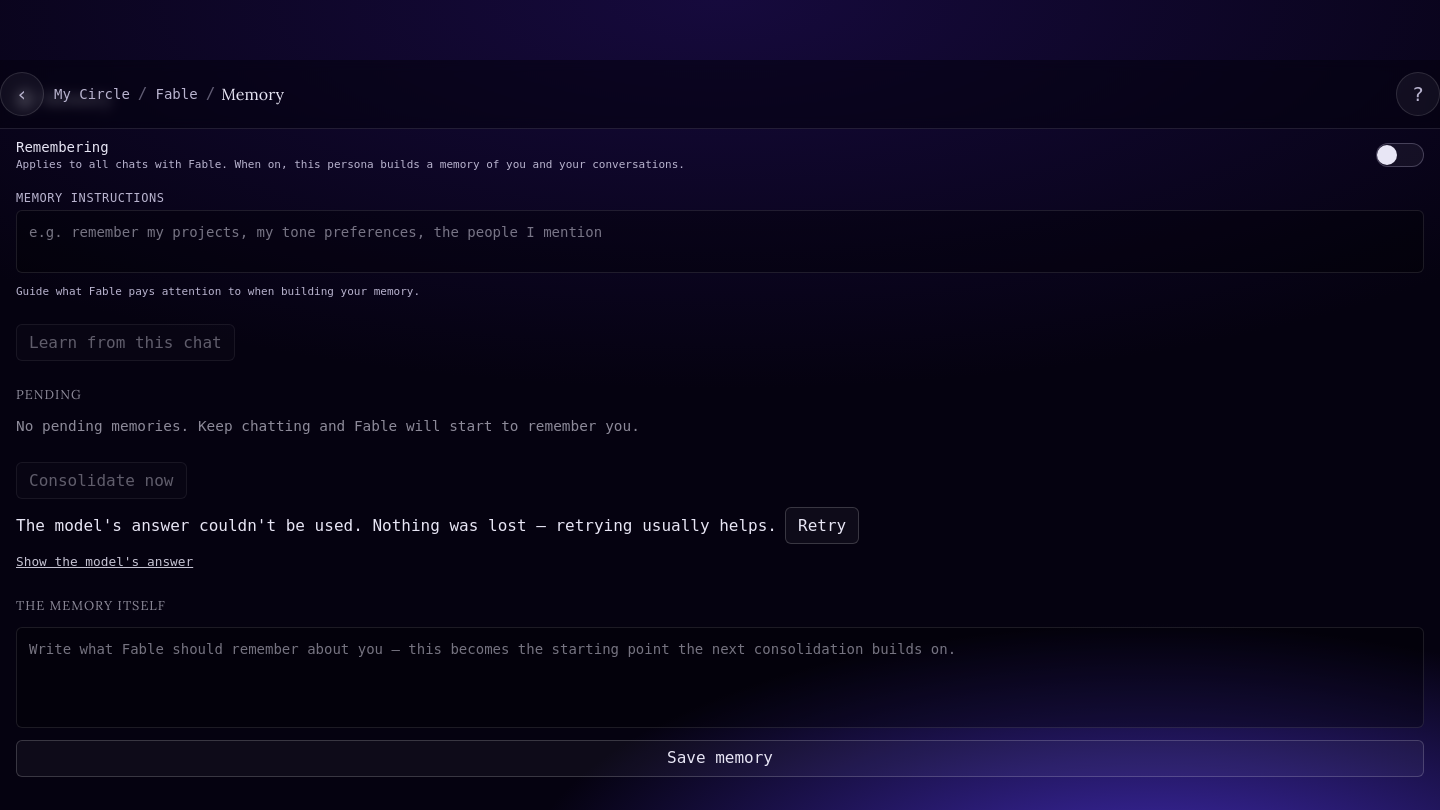
Scenario: PersonaMemory — action error copy › opens the response overlay with reasoning and content split apart
Click the button "Show the model's answer" at (105, 562), box [16,552,193,572]
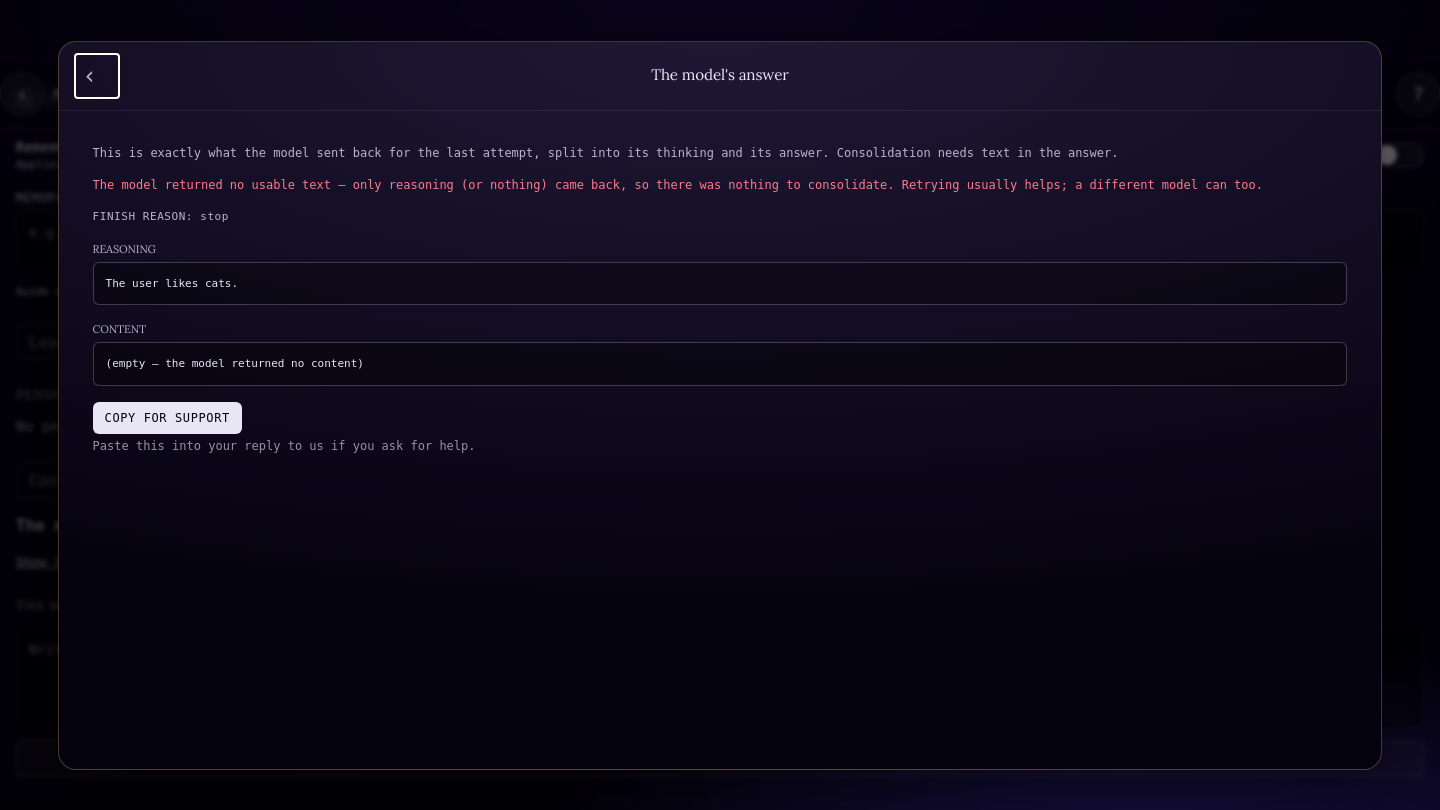
Expected: the element with test id "memory-response" is shown, [77,128,1363,470]
Expected: the text with test id "memory-response-reasoning" reads "The user likes cats.", [106,276,238,290]
Expected: the text with test id "memory-response-content" shows "the model returned no content", [106,357,364,370]
